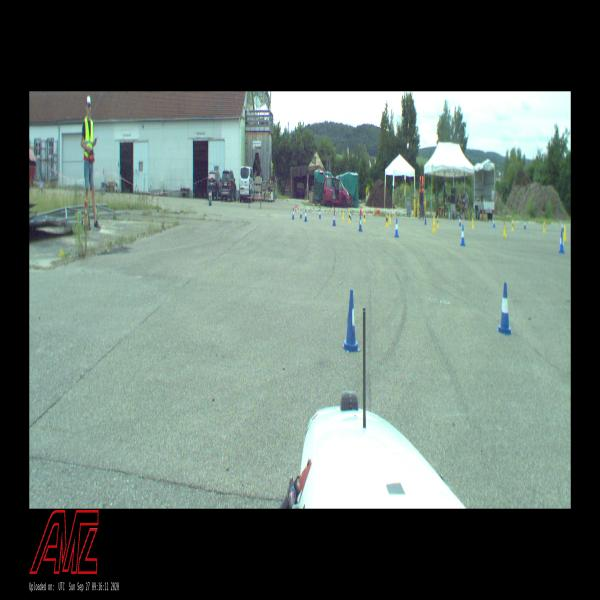blue_cone: (342, 290, 360, 352), (496, 283, 512, 334), (559, 232, 565, 253), (460, 225, 465, 246), (394, 219, 399, 238), (358, 216, 362, 231), (333, 212, 336, 226), (305, 209, 308, 222), (424, 215, 427, 224), (292, 208, 294, 219), (319, 208, 321, 219), (350, 210, 352, 221), (300, 208, 302, 218), (459, 216, 461, 226), (493, 218, 495, 227), (524, 220, 526, 228)
yellow_cone: (563, 224, 567, 241), (432, 217, 436, 232), (502, 223, 506, 237), (385, 214, 388, 227), (511, 220, 514, 231), (542, 221, 545, 232), (348, 212, 351, 222), (389, 214, 392, 224), (437, 216, 439, 227), (472, 218, 474, 229), (342, 211, 344, 222), (364, 212, 366, 222)
